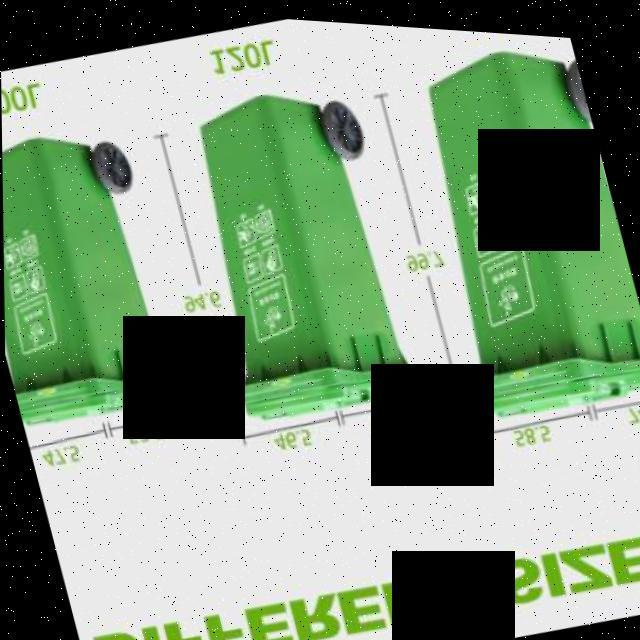bin: (371, 19, 640, 428)
